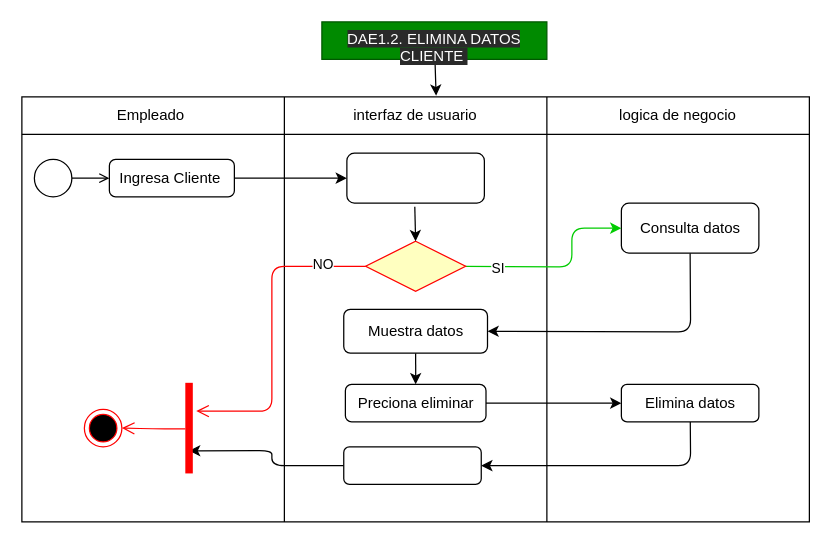
The diagram is 831 pixels wide and 544 high, and some of its shapes have lost their labels. Each missing label, with the box of its shape:
Datos Eliminados: (342, 446, 481, 484)
Existe: (364, 240, 466, 291)
Valida registro: (346, 152, 484, 203)
